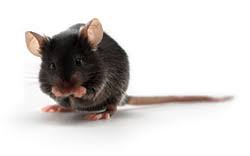mice: (22, 16, 236, 121)
